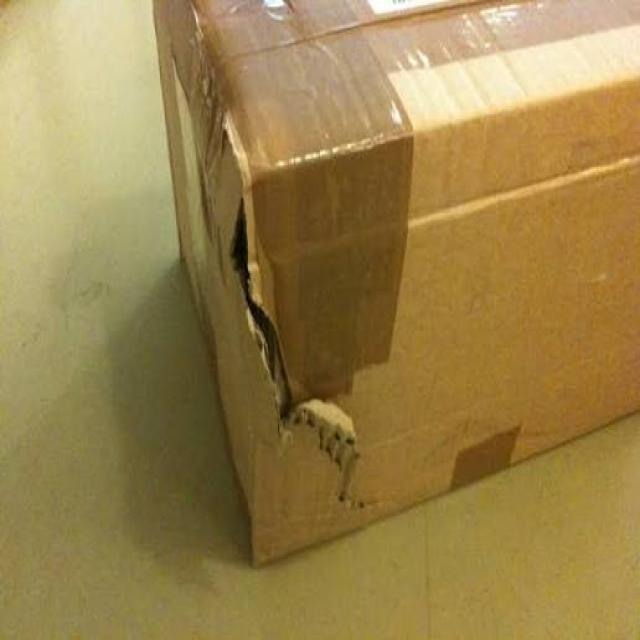carton_box: (142, 0, 640, 577)
package_damage: (200, 128, 403, 539)
